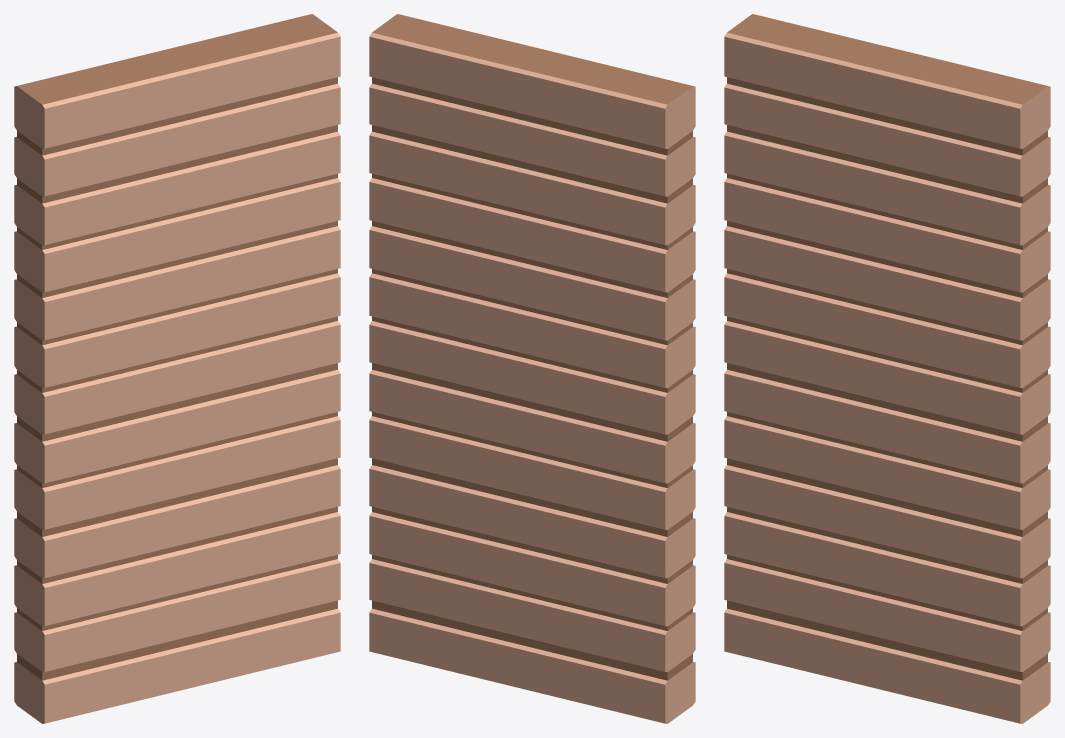
The model's file is HorizontalBoardWall.glb.
The picture shows the model from 3 angles, left to right: view 1: azimuth 30°, elevation 25°; view 2: azimuth 150°, elevation 25°; view 3: azimuth 330°, elevation 25°; orthographic projection.
Parts seen in each view (by area): view 1: wall_horizontalBoard; view 2: wall_horizontalBoard; view 3: wall_horizontalBoard.
Part boxes in pixels (x1=…): wall_horizontalBoard: x1=14, y1=14, x2=340, y2=723; wall_horizontalBoard: x1=369, y1=14, x2=695, y2=723; wall_horizontalBoard: x1=724, y1=14, x2=1050, y2=723.
Size of what is drawn, in the model's own units: 2 by 4 by 0.3569.
Materials: 1 (1 with a texture image).
